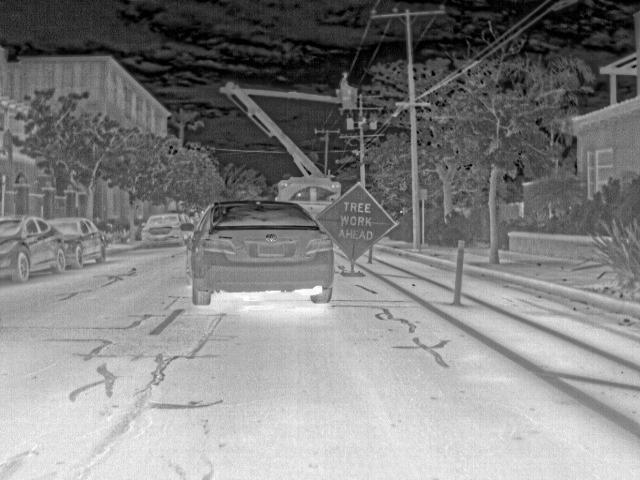car: (185, 202, 334, 306), (0, 213, 68, 284), (65, 215, 108, 266), (142, 214, 192, 248)
person: (339, 69, 352, 86), (191, 210, 199, 225)
